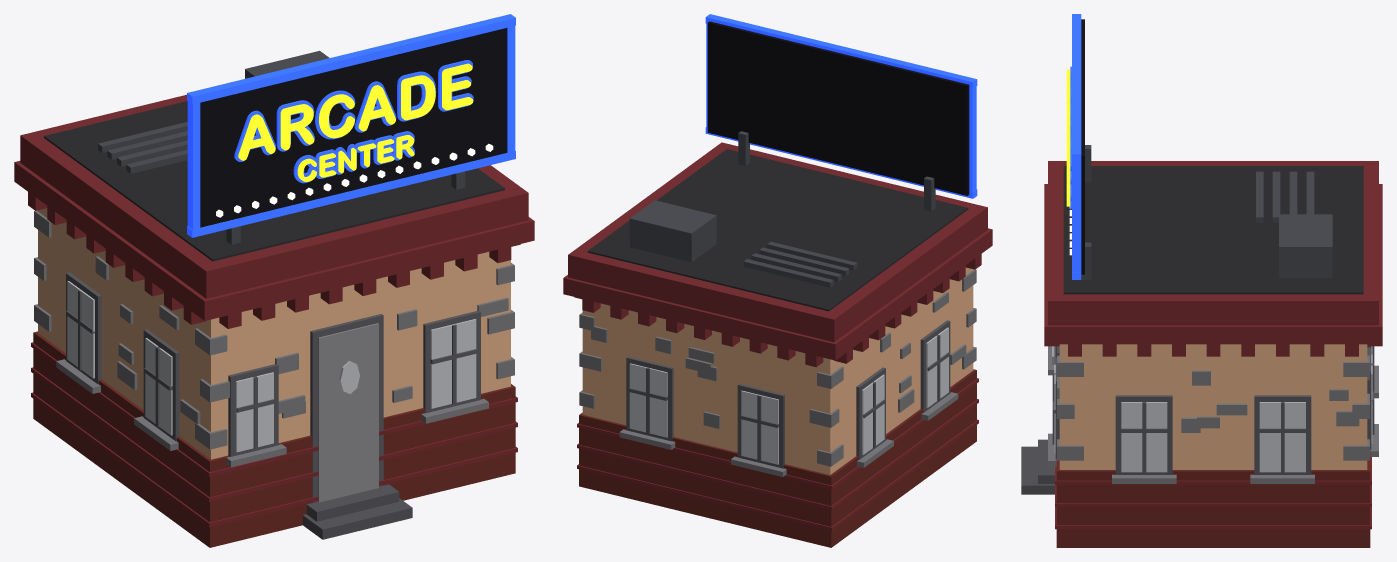
The model's file is arcade-center-small.glb.
3 renders of one model, left to right at view 1: azimuth 30°, elevation 25°; view 2: azimuth 150°, elevation 25°; view 3: azimuth 270°, elevation 25°, orthographic. The views are drawn at different scales.
Visible parts, largest first — view 1: ArcadeCenter; view 2: ArcadeCenter; view 3: ArcadeCenter.
Boxes of the visible parts, x1=… form: ArcadeCenter: x1=14, y1=14, x2=534, y2=547; ArcadeCenter: x1=563, y1=14, x2=992, y2=547; ArcadeCenter: x1=1021, y1=14, x2=1382, y2=547.
Bounding box in the file's own units: 4.4 × 5.7 × 4.7.
